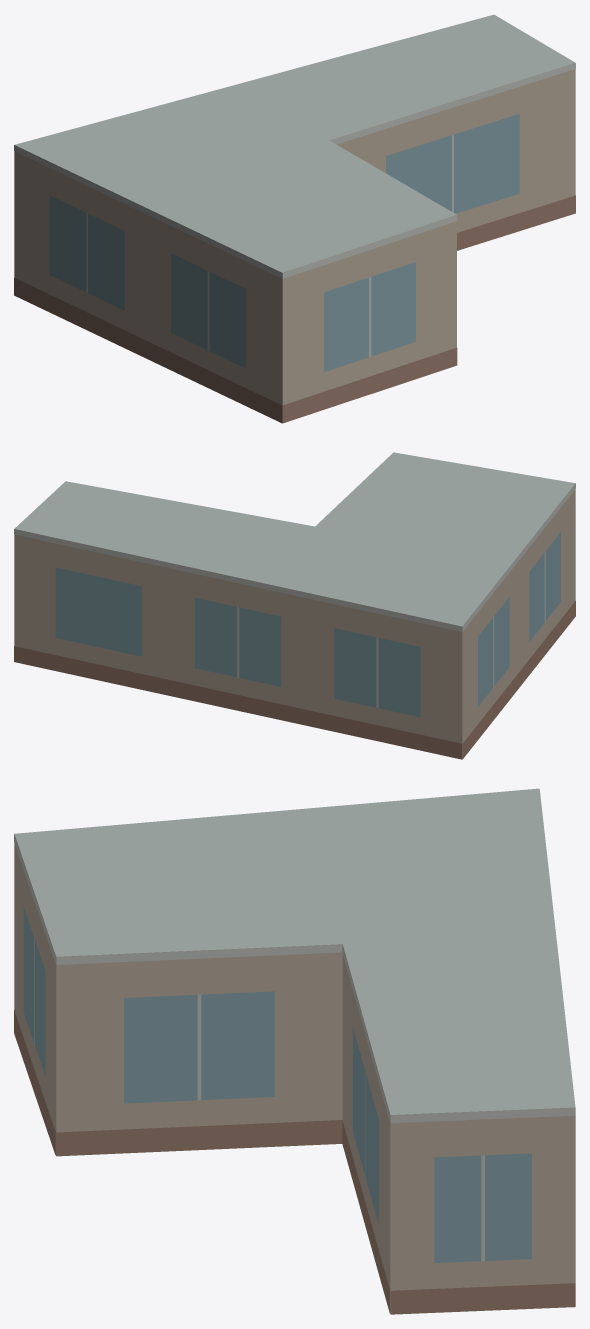
The model's file is survey-upis-32495462.glb.
3 views of the same model, one above another, from view 1: azimuth 30°, elevation 25°; view 2: azimuth 150°, elevation 25°; view 3: azimuth 270°, elevation 25° (orthographic). The views are drawn at different scales.
Parts seen in each view (by area): view 1: survey-upis-32495462.tmp; view 2: survey-upis-32495462.tmp; view 3: survey-upis-32495462.tmp.
Boxes of the visible parts, left/top/right/bottom form: survey-upis-32495462.tmp: left=14, top=14, right=575, bottom=423; survey-upis-32495462.tmp: left=14, top=452, right=575, bottom=759; survey-upis-32495462.tmp: left=14, top=788, right=575, bottom=1314.
Bounding box in the file's own units: 10.72 × 3.05 × 7.79.
